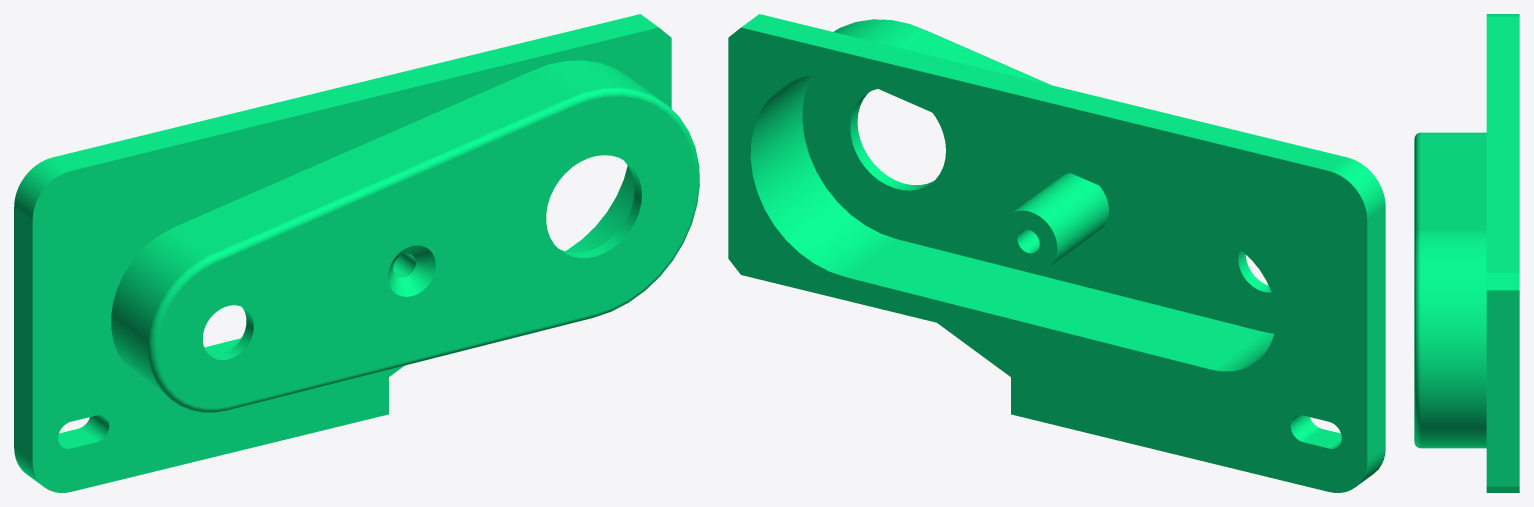
The model's file is Крышка кронштейна двигателя Nema17AZ.gltf.
3 renders of one model, left to right at view 1: azimuth 30°, elevation 25°; view 2: azimuth 150°, elevation 25°; view 3: azimuth 270°, elevation 25°, orthographic. The views are drawn at different scales.
Visible parts, largest first — view 1: Крышка кронштейна двигателя Nema17AZ; view 2: Крышка кронштейна двигателя Nema17AZ; view 3: Крышка кронштейна двигателя Nema17AZ.
Part boxes in pixels (x1,y1,x2,y2): Крышка кронштейна двигателя Nema17AZ: [14, 14, 699, 492]; Крышка кронштейна двигателя Nema17AZ: [728, 14, 1385, 492]; Крышка кронштейна двигателя Nema17AZ: [1414, 14, 1519, 492].
Bounding box in the file's own units: 0.1 × 0.048 × 0.016.
